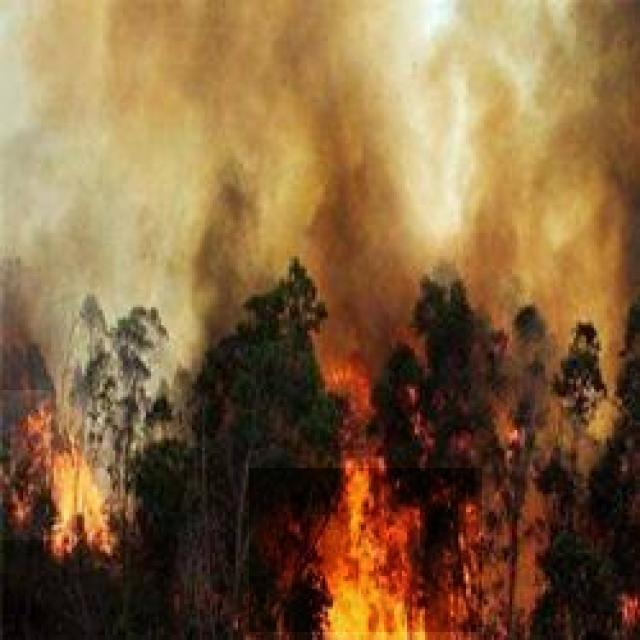Fire: (249, 368, 482, 632), (0, 390, 110, 540)
Smoke: (51, 28, 628, 468)
